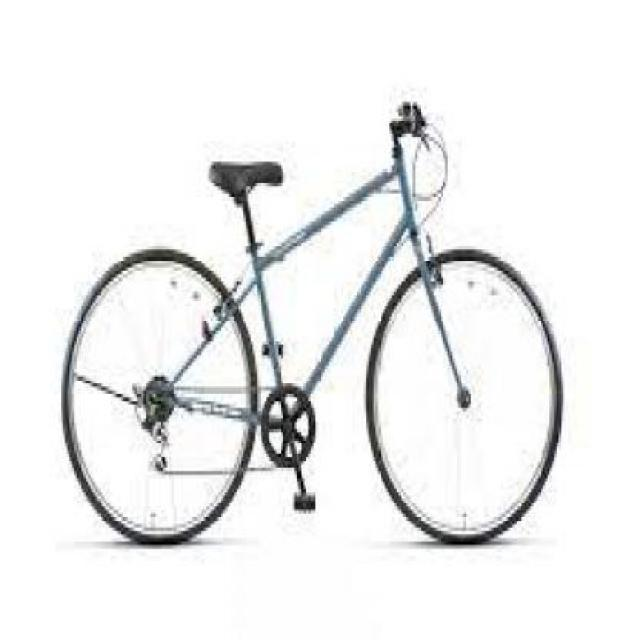bicycle: (48, 104, 593, 550)
